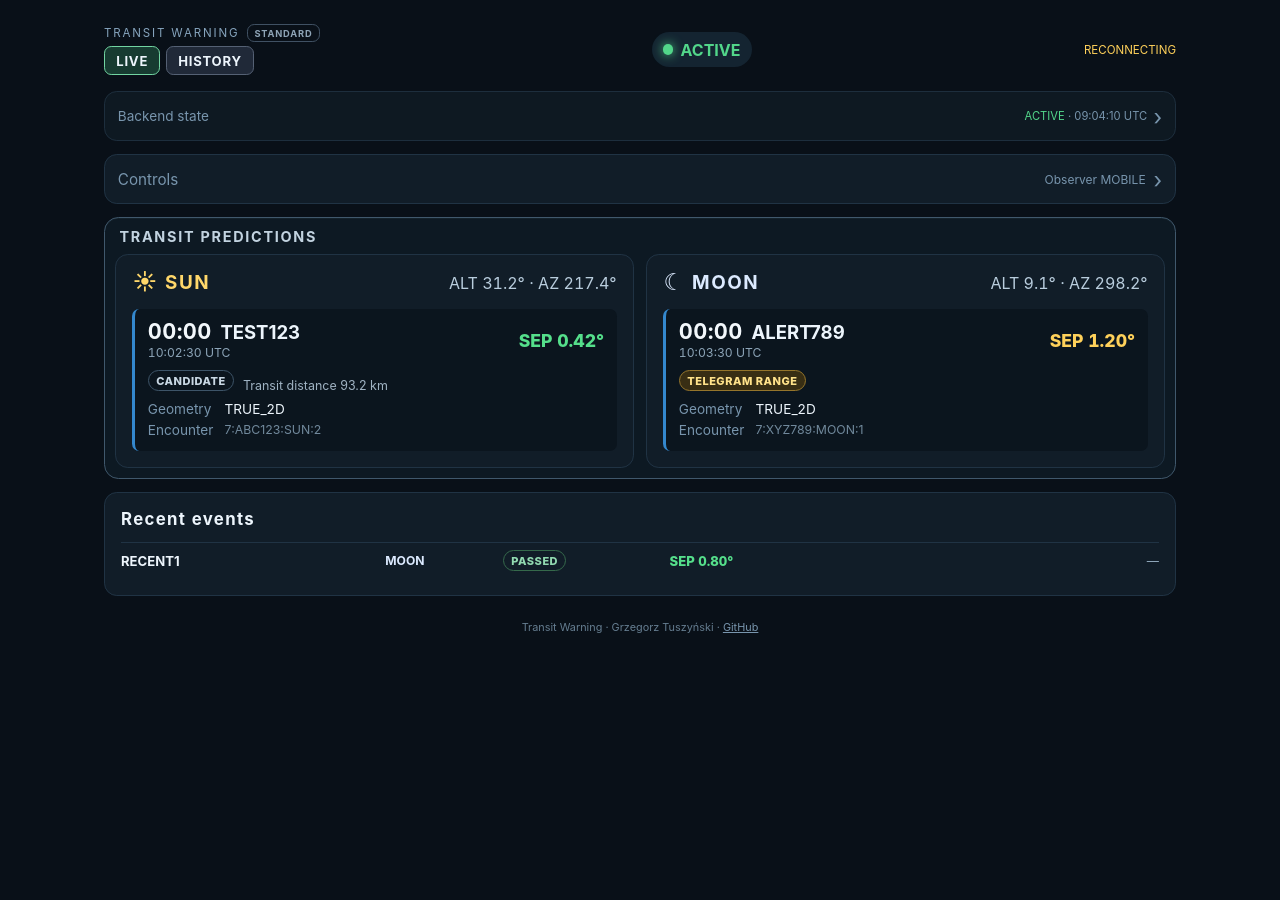
Scenario: synchronized operational controls › starts browser GPS, submits the existing payload, and stops cleanly
The width and height of the screenshot is (1280, 900).
Click the button with aria-label "Expand Controls panel" at (148, 179), box x1=105 y1=155 x2=1175 y2=203
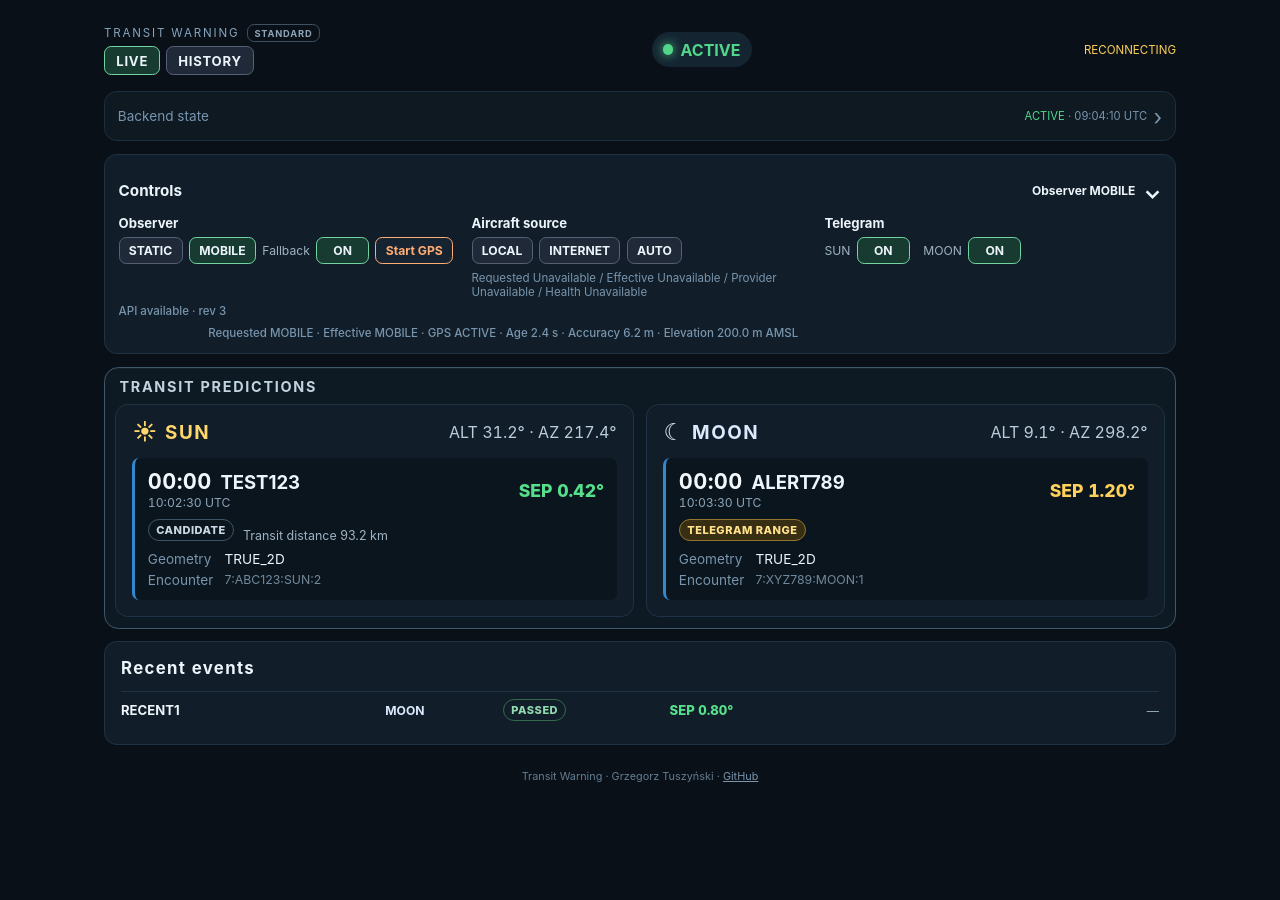
Click the button "Start GPS" at (414, 251), box x1=376 y1=237 x2=453 y2=264
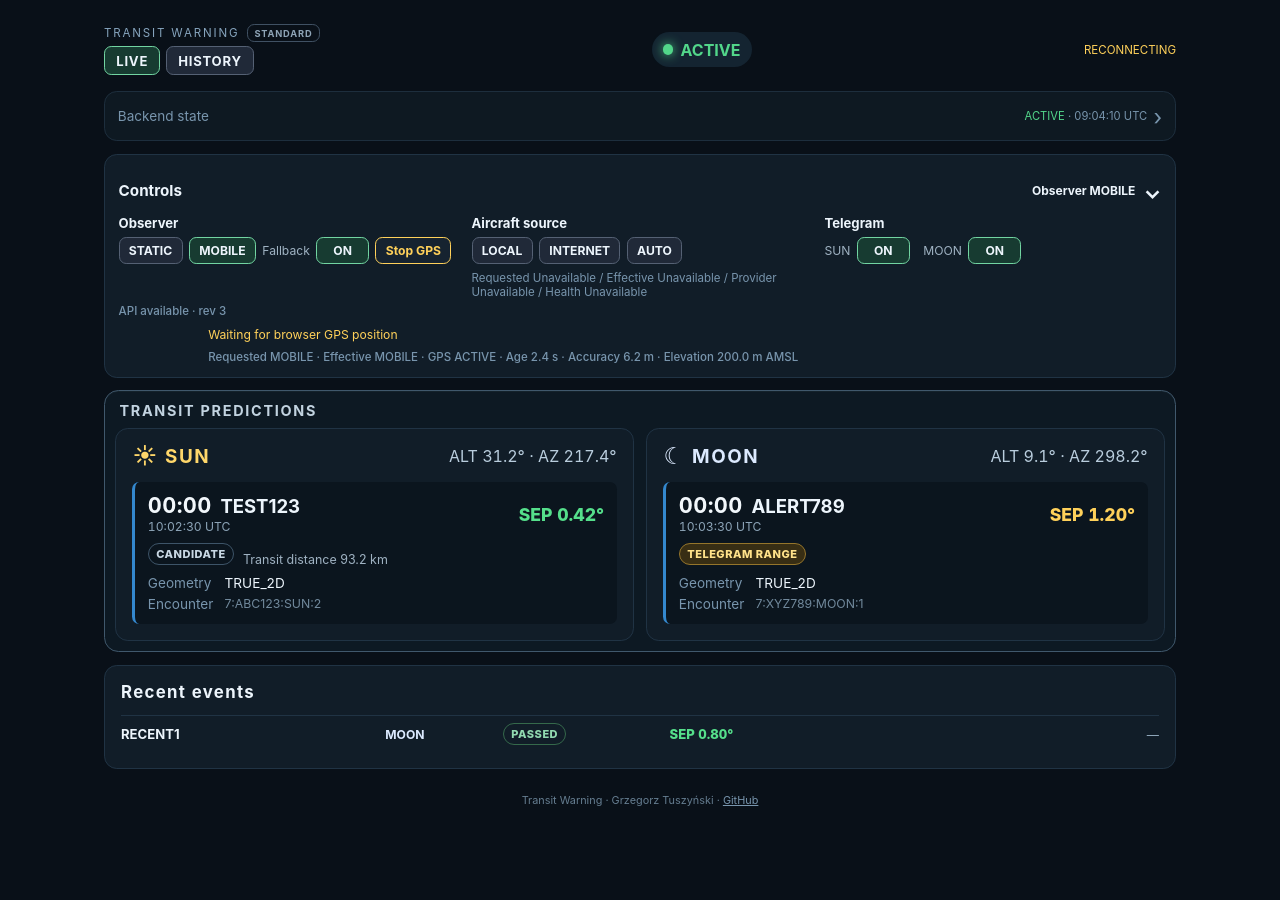
Click the button "Stop GPS" at (413, 251), box x1=376 y1=237 x2=451 y2=264
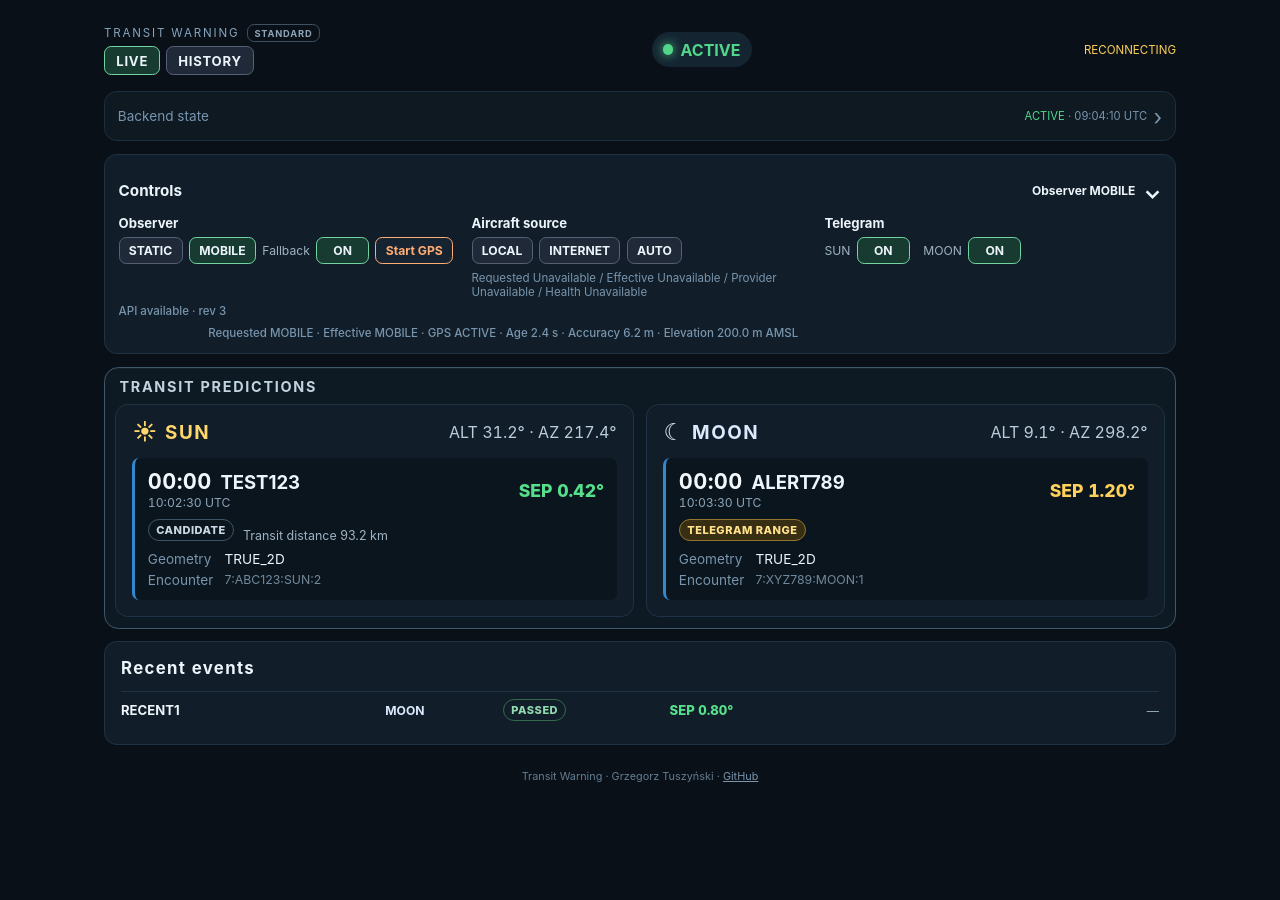
Result: the button "Start GPS" is shown at x1=376 y1=237 x2=453 y2=264
